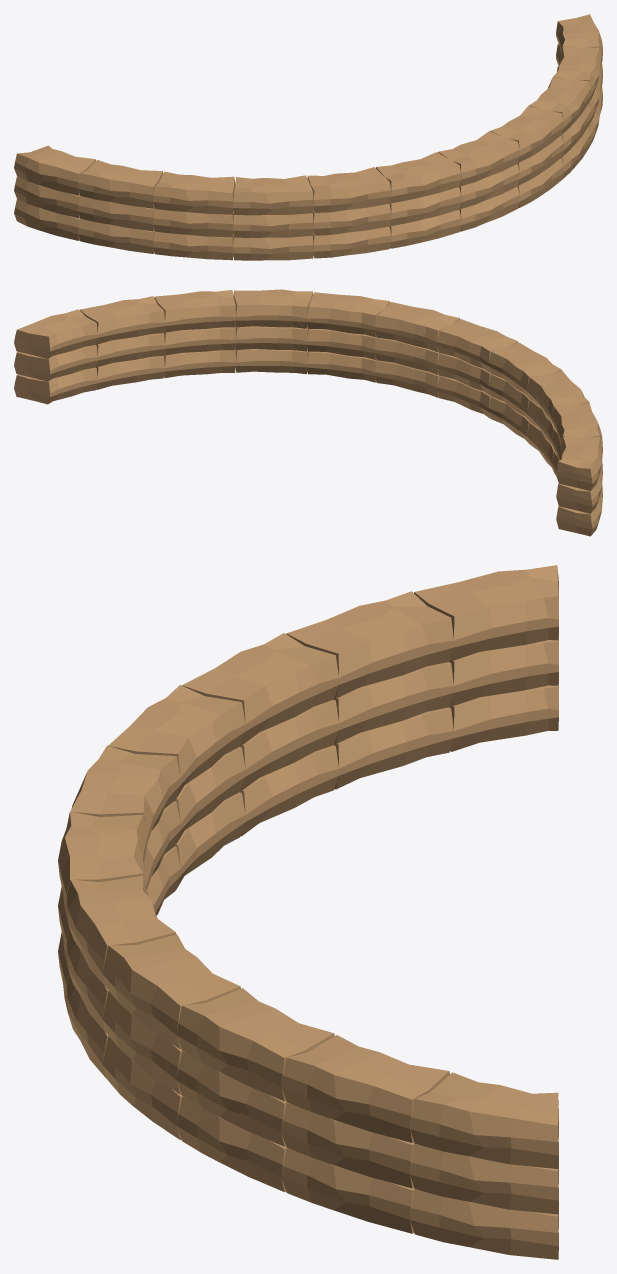
The model's file is SandbagCurvedWallV1.glb.
3 renders of one model, top to bottom at view 1: azimuth 30°, elevation 25°; view 2: azimuth 150°, elevation 25°; view 3: azimuth 270°, elevation 25°, orthographic. The views are drawn at different scales.
Visible parts, largest first — view 1: SandbagCurvedWallV1; view 2: SandbagCurvedWallV1; view 3: SandbagCurvedWallV1.
Part boxes in pixels (bbox=[...]): SandbagCurvedWallV1: bbox=[14, 14, 602, 260]; SandbagCurvedWallV1: bbox=[14, 289, 602, 536]; SandbagCurvedWallV1: bbox=[58, 565, 558, 1259].
Bounding box in the file's own units: 8 × 0.8999 × 3.
Materials: 1 (1 with a texture image).
